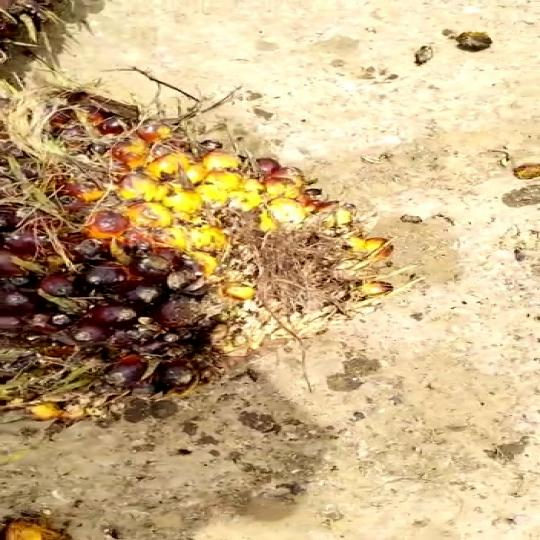kurang masak: (0, 101, 387, 440)
